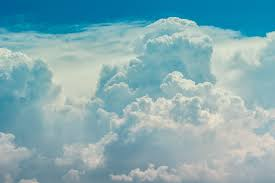sky: (1, 2, 275, 182)
